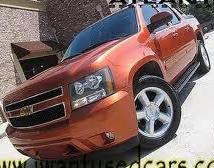front_view: (1, 59, 129, 166)
headlight: (65, 67, 118, 112)
side_glass: (144, 2, 182, 36)
